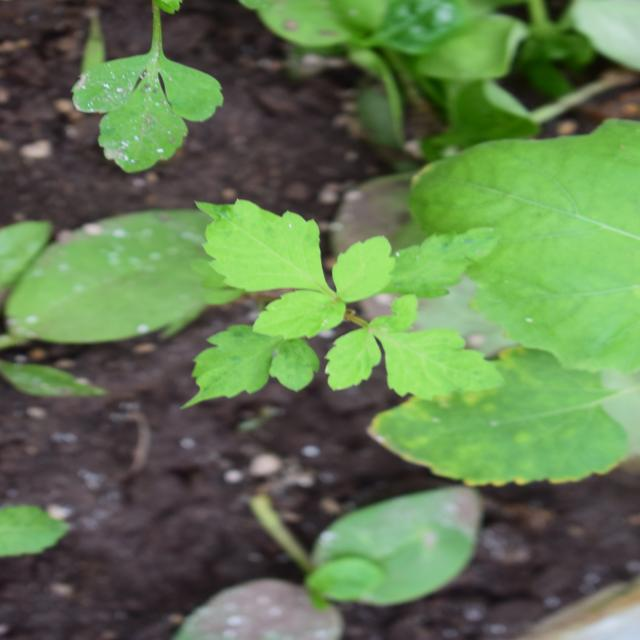Bidens pilosa: (187, 131, 436, 466)
